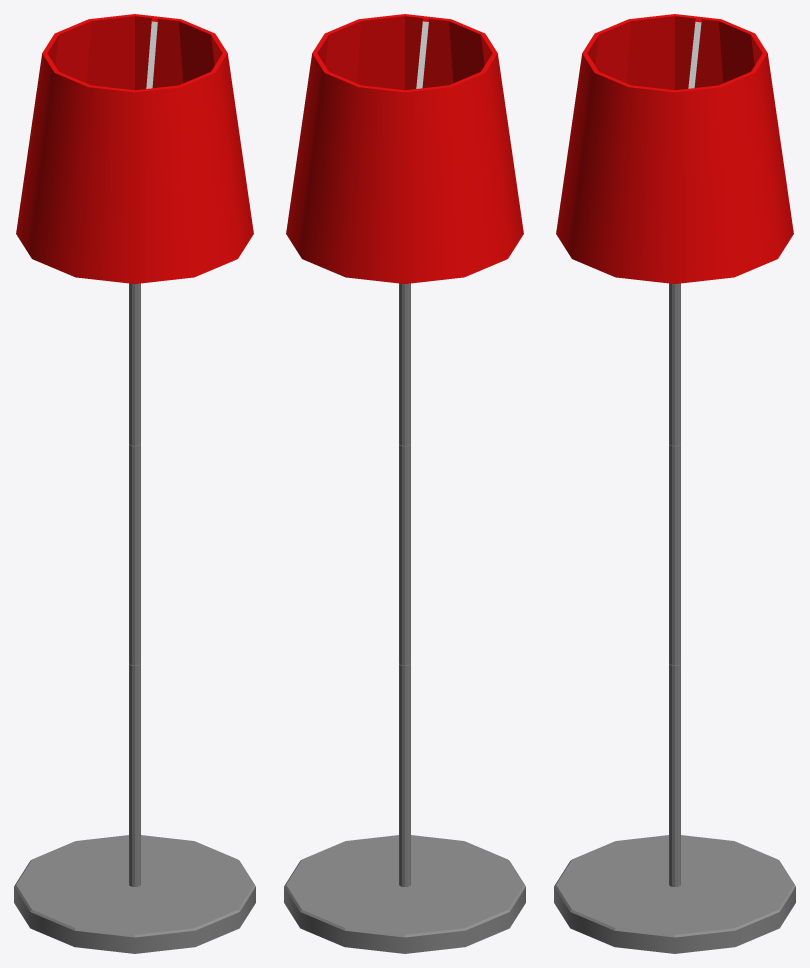
Rendered from Lamp.FBX.
The picture shows the model from 3 angles, left to right: view 1: azimuth 30°, elevation 25°; view 2: azimuth 150°, elevation 25°; view 3: azimuth 270°, elevation 25°; orthographic projection.
Visible parts, largest first — view 1: shade holder, Light Base; view 2: shade holder, Light Base; view 3: shade holder, Light Base.
Part boxes in pixels (left/top/right/bottom): shade holder: left=16, top=14, right=253, bottom=283; Light Base: left=14, top=283, right=255, bottom=953; shade holder: left=286, top=14, right=523, bottom=283; Light Base: left=284, top=283, right=525, bottom=953; shade holder: left=556, top=14, right=793, bottom=283; Light Base: left=554, top=283, right=795, bottom=953.
Size of the model in its own units: 23.62 by 91.54 by 23.62.
